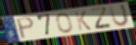7: (36, 13, 52, 37)
K: (73, 10, 92, 32)
O: (56, 13, 75, 34)
P: (16, 16, 36, 40)
U: (108, 3, 131, 28)
Z: (89, 6, 114, 31)
